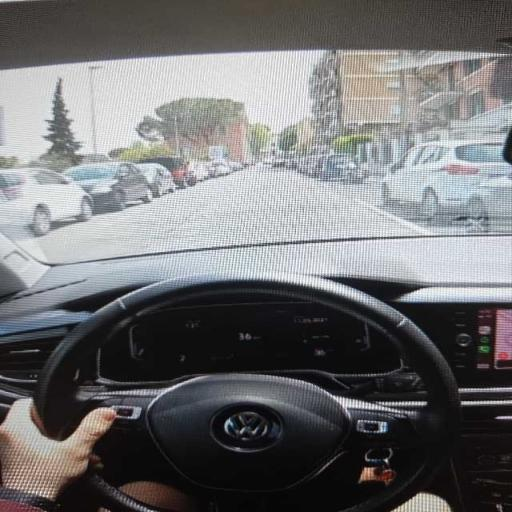car: (0, 167, 511, 511), (380, 140, 511, 220), (0, 169, 92, 235), (65, 163, 153, 211), (460, 173, 511, 232), (139, 156, 195, 188), (136, 164, 174, 197), (320, 155, 363, 182), (189, 161, 210, 181), (208, 160, 231, 177), (272, 153, 287, 168), (228, 161, 243, 171)
lane: (37, 167, 419, 261)
person: (0, 400, 115, 511)
